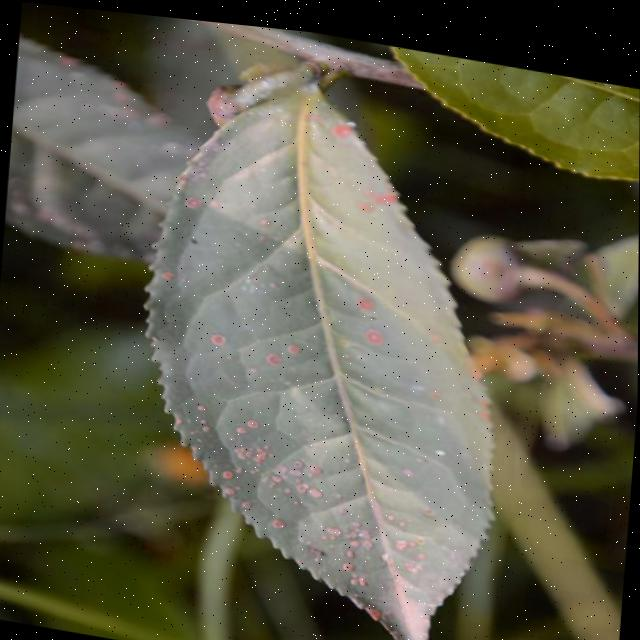Tea algae leaf spot: (125, 73, 485, 594)
